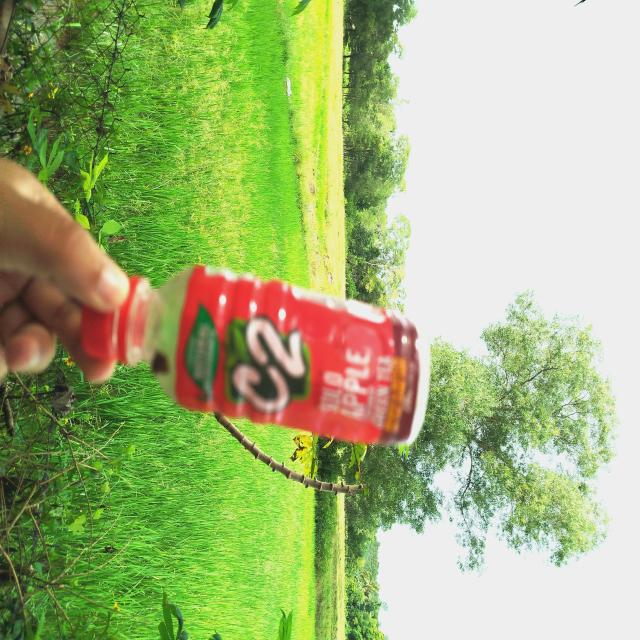plastic: (65, 239, 439, 463)
